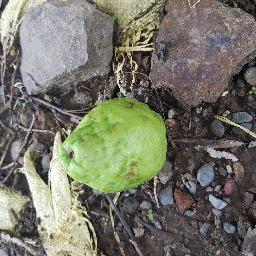Good_guava: (58, 99, 168, 197)
